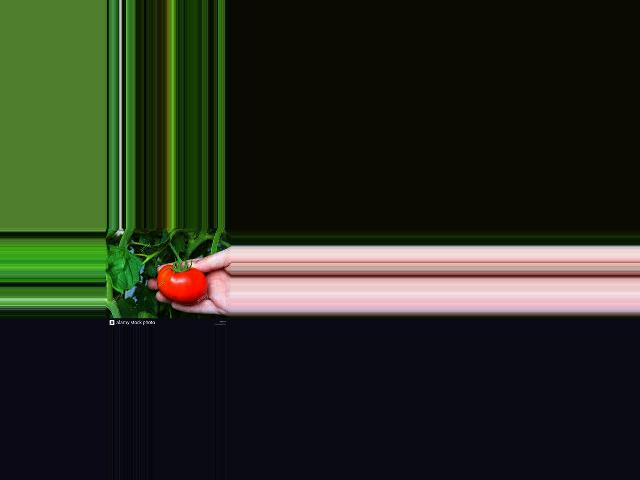tomato: (157, 265, 208, 304)
